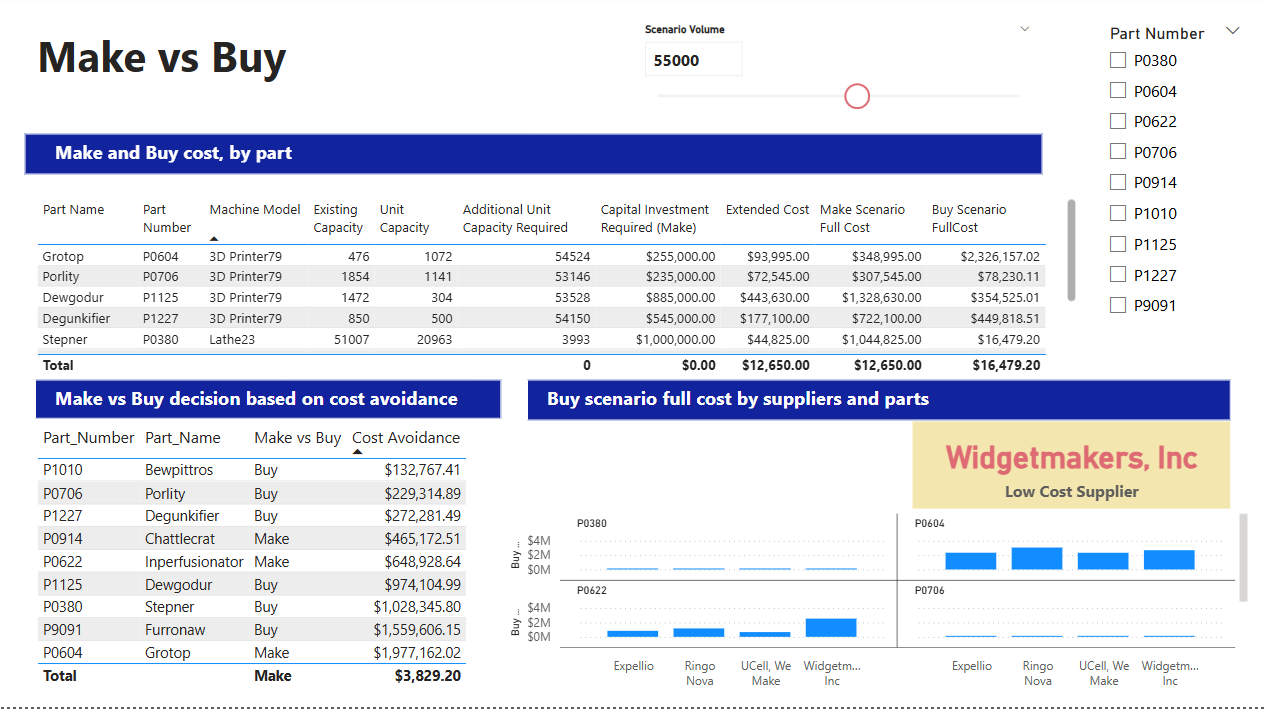

This screenshot's page, from the dashboard's own definition file:
{"tool":"powerbi","page":{"name":"Make vs Buy Analysis","canvas":[1280,720],"ordinal":2},"visuals":[{"type":"shape","box":[25.5,140.7,1027.7,41.4],"z":0,"group":"g3"},{"type":"tableEx","fields":{"Values":["Product_Dimension.Part_Name","Product_Dimension.Part_Number","Internal_Mfg_Resource_Estimates.Machine_Model","Internal_Mfg_Resource_Estimates.Existing_Capacity","Internal_Mfg_Resource_Estimates.Unit_Capacity","Internal_Mfg_Resource_Estimates.Additional Unit Capacity Required","Internal_Mfg_Resource_Estimates.Number of machines required","Internal_Mfg_Resource_Estimates.Extended Cost","Internal_Mfg_Resource_Estimates.Make Scenario Full Cost","Scenario Volume.Buy Scenario FullCost"]},"box":[32.8,201.7,1058.7,187.9],"z":0},{"type":"shape","box":[36.2,389.7,470.7,39.7],"z":0,"group":"g1"},{"type":"shape","box":[533.1,390.2,710.4,41.4],"z":0,"group":"g2"},{"type":"slicer","fields":{"Values":["Scenario Volume.Scenario Volume"]},"box":[639.7,24.1,413.8,117.3],"z":1000},{"type":"textbox","box":[51.4,141.4,470.7,34.5],"z":1000,"group":"g3"},{"type":"textbox","box":[51.7,389.7,470.7,34.5],"z":1000,"group":"g1"},{"type":"textbox","box":[548.3,389.7,470.7,34.5],"z":1000,"group":"g2"},{"type":"textbox","box":[32.8,27.6,275.9,72.4],"z":2000},{"type":"tableEx","fields":{"Values":["Product_Dimension.Part_Number","Product_Dimension.Part_Name","Scenario Volume.Make vs Buy","Scenario Volume.Cost Avoidance"]},"box":[32.8,429.4,474.2,281.1],"z":3000},{"type":"slicer","fields":{"Values":["Internal_Mfg_Resource_Estimates.Part_Number"]},"box":[1108.7,24.1,156.9,315.5],"z":4000},{"type":"clusteredColumnChart","fields":{"Y":["Scenario Volume.Buy Scenario FullCost"],"Category":["Quotes.Supplier"],"Rows":["Product_Dimension.Part_Number"]},"box":[510.4,519,755.2,191.4],"z":5000},{"type":"card","fields":{"Values":["Min(Quotes.Supplier)"]},"box":[922.5,431.1,320.7,87.9],"z":6000},{"type":"group","id":"g1","title":"Group 1","box":[36.2,389.7,486.3,39.7],"z":7000},{"type":"group","id":"g2","title":"Group 1","box":[533.1,389.7,710.4,41.9],"z":8000},{"type":"group","id":"g3","title":"Group 1","box":[25.5,140.7,1027.7,41.4],"z":9000}]}

Visuals, with their boxes in screenshot pixels (x1, y1, x2, y2), scaled from the page's 1280x720 canvas onto the 1266x709 screenshot:
shape: (25,139,1042,179)
tableEx - Product_Dimension.Part_Name x Product_Dimension.Part_Number: (32,199,1080,384)
shape: (36,384,501,423)
shape: (527,384,1230,425)
slicer - Scenario Volume.Scenario Volume: (633,24,1042,139)
textbox: (51,139,516,173)
textbox: (51,384,517,418)
textbox: (542,384,1008,418)
textbox: (32,27,305,98)
tableEx - Product_Dimension.Part_Number x Product_Dimension.Part_Name: (32,423,501,700)
slicer - Internal_Mfg_Resource_Estimates.Part_Number: (1097,24,1252,334)
clusteredColumnChart - Scenario Volume.Buy Scenario FullCost x Quotes.Supplier: (505,511,1252,700)
card - Min(Quotes.Supplier): (912,425,1230,511)
"Group 1" group: (36,384,517,423)
"Group 1" group: (527,384,1230,425)
"Group 1" group: (25,139,1042,179)
